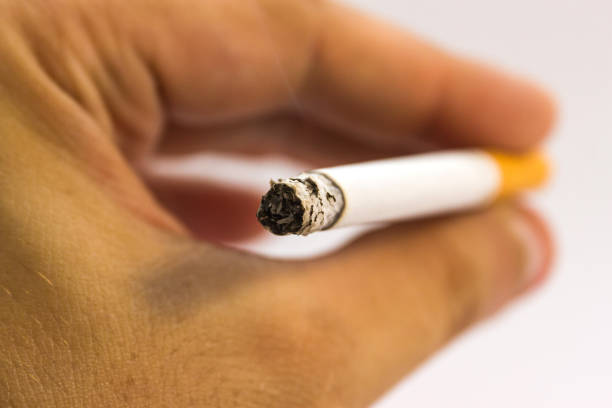cigarette: (257, 142, 551, 237)
